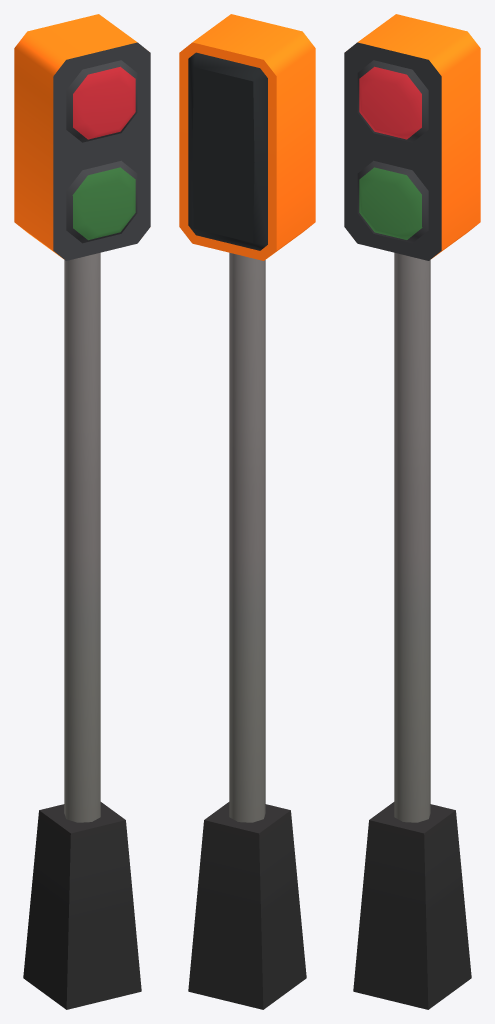
Rendered from city2-traffic-light-01.glb.
The picture shows the model from 3 angles, left to right: view 1: azimuth 30°, elevation 25°; view 2: azimuth 150°, elevation 25°; view 3: azimuth 330°, elevation 25°; orthographic projection.
Visible parts, largest first — view 1: Traffic_Light_01; view 2: Traffic_Light_01; view 3: Traffic_Light_01.
Boxes of the visible parts, <box> form: Traffic_Light_01: <box>14,14,150,1009</box>; Traffic_Light_01: <box>179,14,315,1009</box>; Traffic_Light_01: <box>344,14,480,1009</box>.
Size of the model in its own units: 0.3789 by 3.53 by 0.341.
2 materials, 2 textured.
